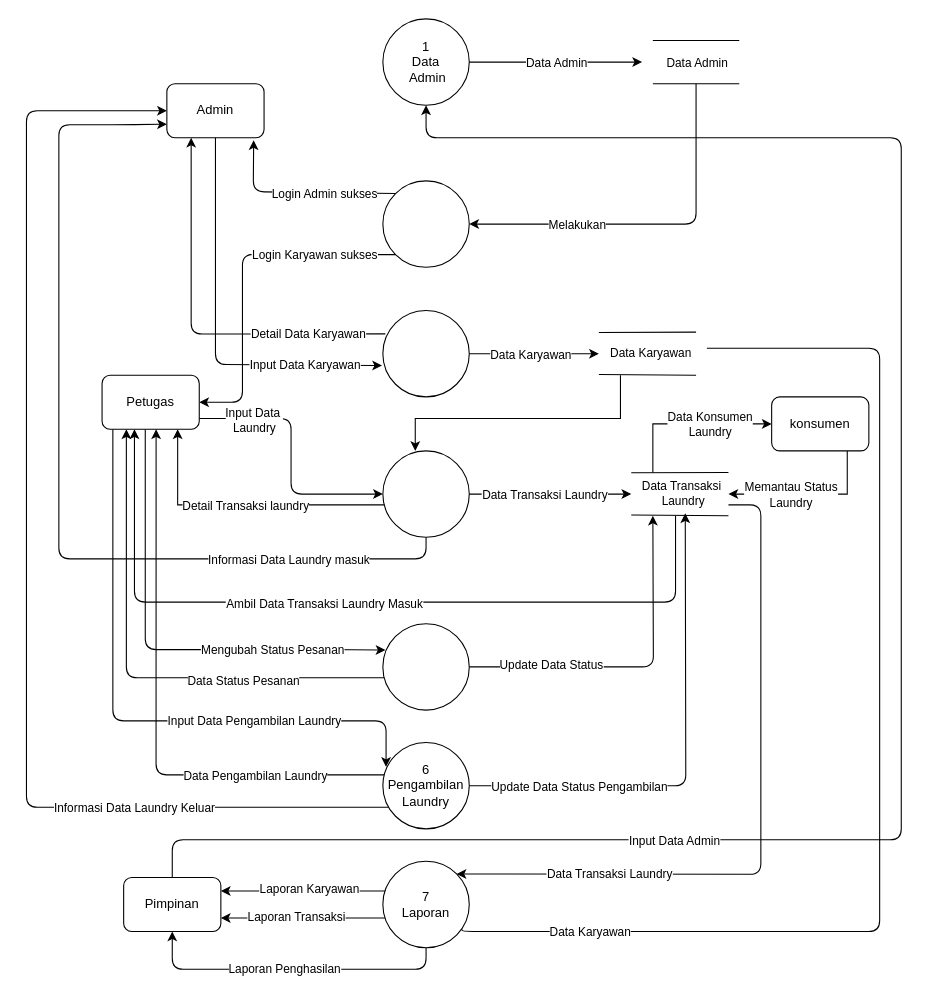
Some shapes in this 929 by 997 pixel diagram are drawn without their labels. The centre of each missing label's shape, as x and y in pixels:
"2 Login" belongs at pixel 425 223.
"3 Data Karyawan" belongs at pixel 425 353.
"4 Transaksi Masuk" belongs at pixel 425 493.
"5 Perubahan Status" belongs at pixel 425 666.
